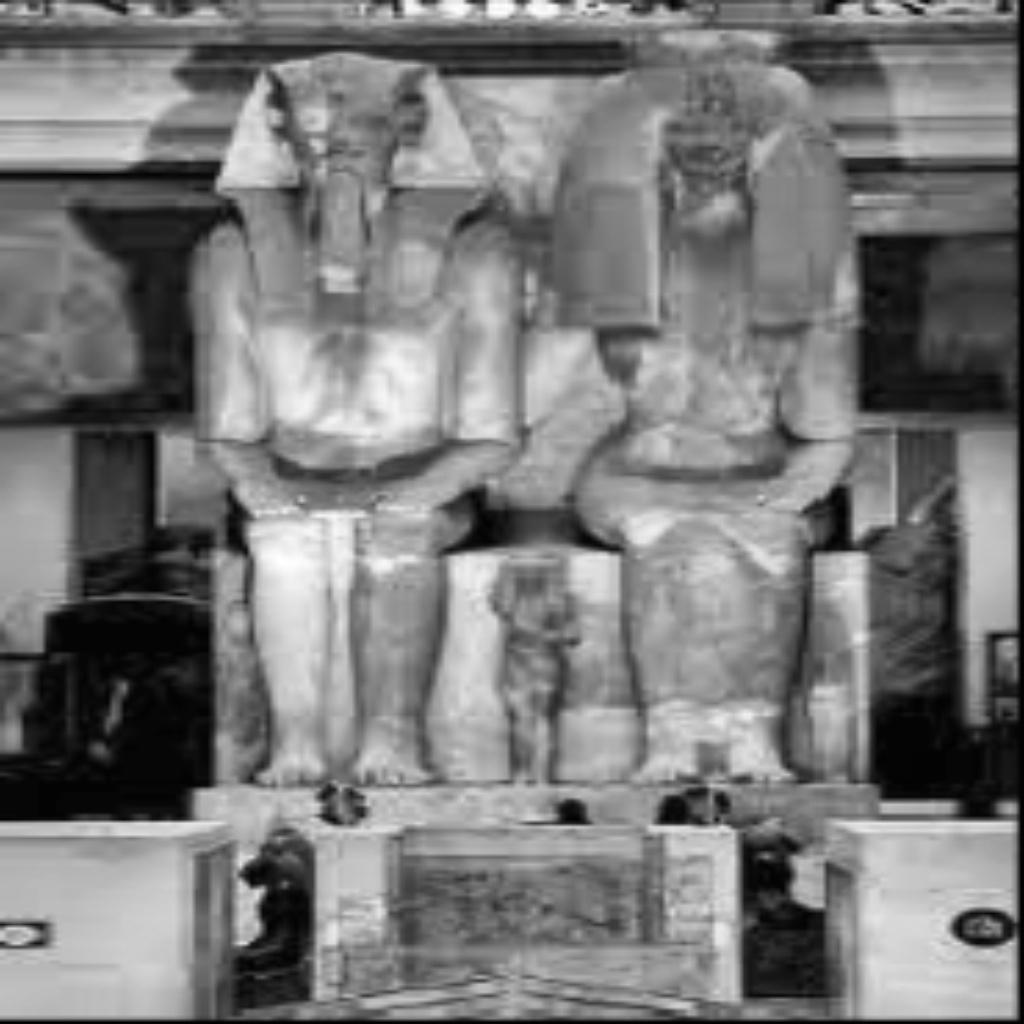Amenhotep III and Tiye: (172, 48, 864, 788)
